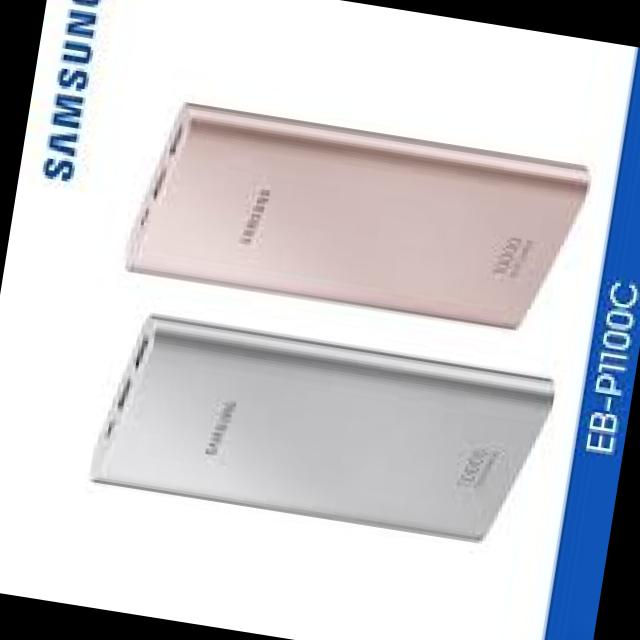portable-charger: (121, 90, 604, 348), (81, 303, 562, 552)
